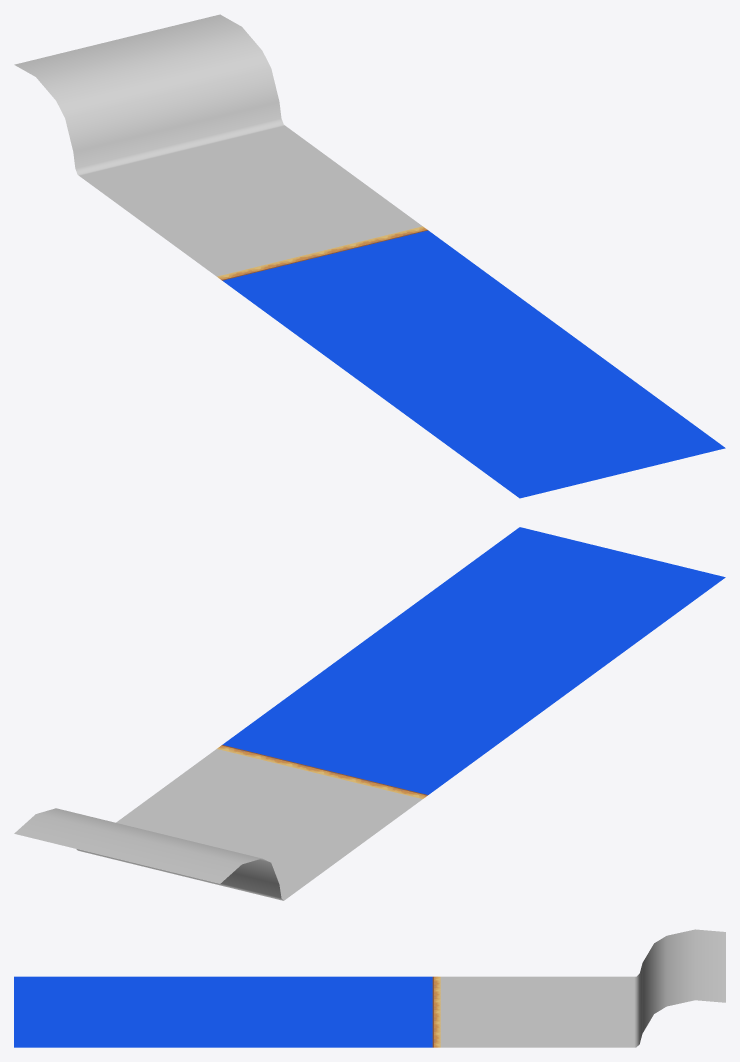
File: Sand_01.FBX
3 renders of one model, top to bottom at view 1: azimuth 30°, elevation 25°; view 2: azimuth 150°, elevation 25°; view 3: azimuth 270°, elevation 25°, orthographic. The views are drawn at different scales.
Parts seen in each view (by area): view 1: Box001; view 2: Box001; view 3: Box001.
Boxes of the visible parts, x1,y1,x2,y2 form: Box001: (14,14,725,498); Box001: (14,527,725,900); Box001: (14,929,725,1047).
Size of the model in its own units: 1434 by 447 by 6096.
